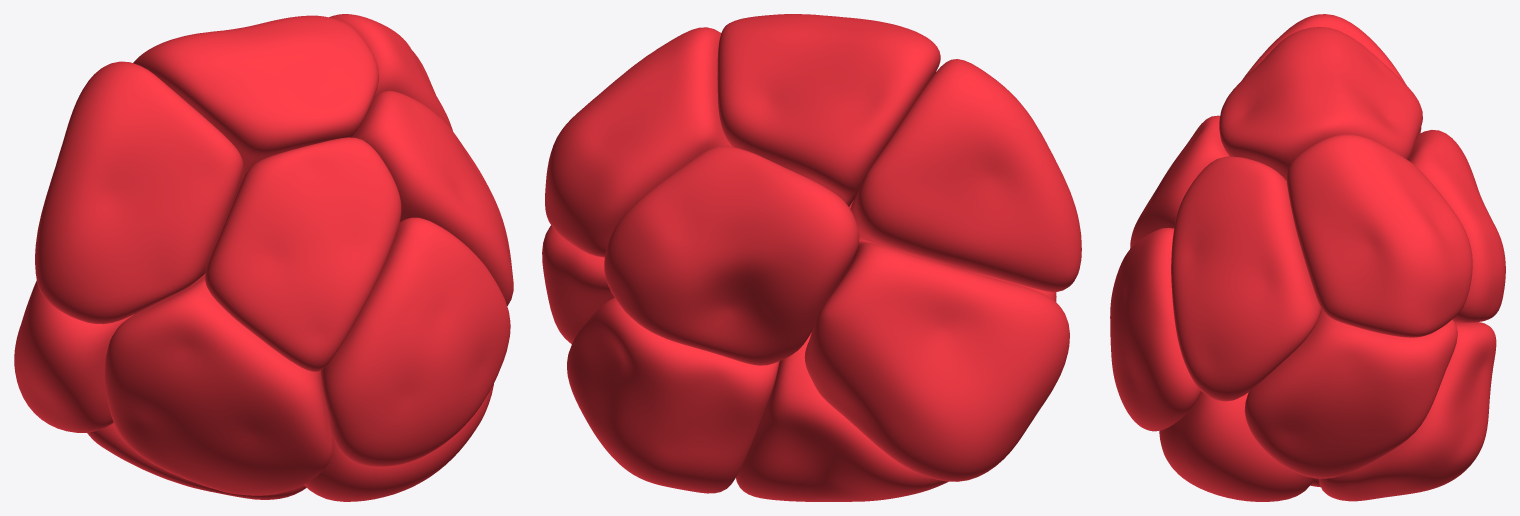
3 views of the same model, side by side, from view 1: azimuth 30°, elevation 25°; view 2: azimuth 150°, elevation 25°; view 3: azimuth 270°, elevation 25° (orthographic). The views are drawn at different scales.
Parts seen in each view (by area): view 1: a2.002, a2.009, a2.003, a2.008, a2.013, a2.004, a2.001, a2.005, a2.010, a2.012; view 2: a2.001, a2.011, a2.002, a2.013, a2.007, a2.010, a2.012, a2.006; view 3: a2.010, a2.004, a2.006, a2.013, a2.007, a2.003, a2.005, a2.011, a2.008, a2.002.
Part boxes in pixels (box(x1,y1,x2,y2)): a2.002: box(35, 61, 243, 324); a2.009: box(104, 273, 332, 495); a2.003: box(320, 217, 510, 466); a2.008: box(205, 137, 401, 371); a2.013: box(133, 15, 378, 178); a2.004: box(352, 90, 513, 305); a2.001: box(14, 280, 134, 432); a2.005: box(304, 370, 493, 501); a2.010: box(329, 14, 452, 130); a2.012: box(87, 423, 306, 499); a2.001: box(804, 241, 1069, 481); a2.011: box(604, 146, 859, 365); a2.002: box(850, 59, 1081, 291); a2.013: box(717, 14, 940, 206); a2.007: box(567, 297, 779, 493); a2.010: box(545, 27, 732, 257); a2.012: box(736, 332, 948, 501); a2.006: box(542, 225, 614, 344); a2.010: box(1286, 134, 1472, 337); a2.004: box(1171, 156, 1321, 401); a2.006: box(1244, 309, 1457, 478); a2.013: box(1219, 27, 1422, 180); a2.007: box(1319, 322, 1496, 501); a2.003: box(1110, 227, 1201, 431); a2.005: box(1159, 391, 1314, 501); a2.011: box(1408, 130, 1505, 322); a2.008: box(1130, 115, 1229, 248); a2.002: box(1242, 14, 1421, 134).
Bounding box in the file's own units: 4198 × 3968 × 3518.
